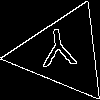Y: (38, 28, 80, 76)
